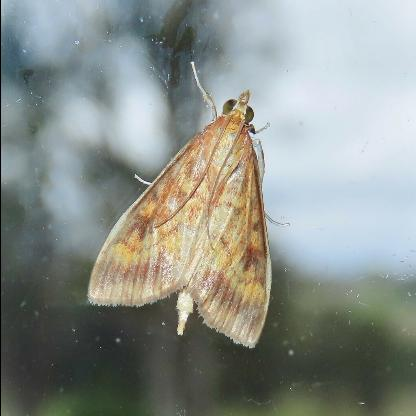Asian Corn Borer Moth: (82, 58, 292, 352)
